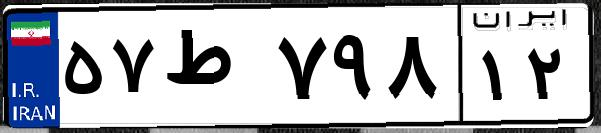1: (475, 38, 525, 113)
2: (525, 38, 570, 115)
5: (57, 26, 110, 100)
7: (270, 28, 330, 110), (110, 28, 158, 98)
8: (385, 28, 445, 110)
9: (330, 28, 385, 110)
ط: (158, 20, 270, 120)
